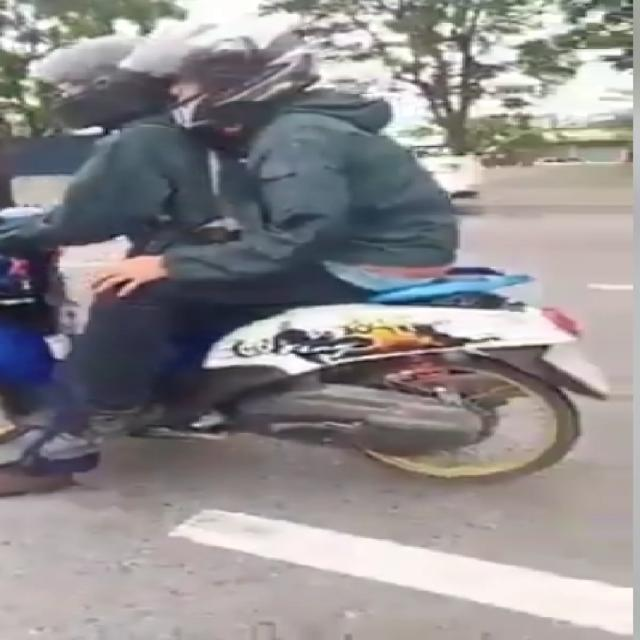helmet: (135, 24, 325, 121), (23, 36, 167, 124)
